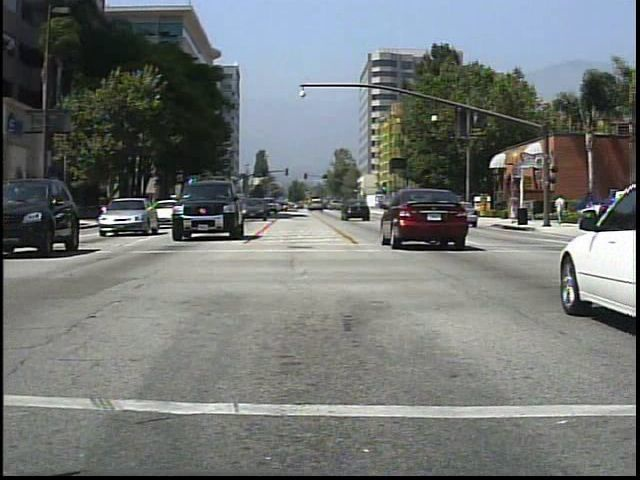person: (554, 191, 570, 227), (507, 191, 521, 226)
